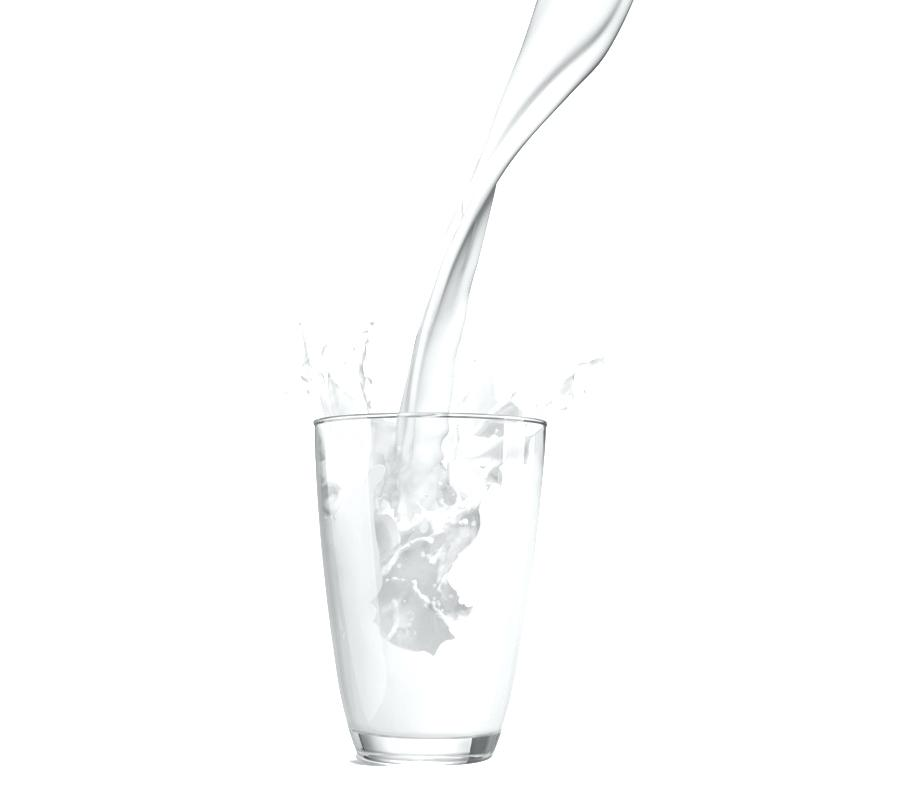glass of milk: (329, 432, 527, 770)
